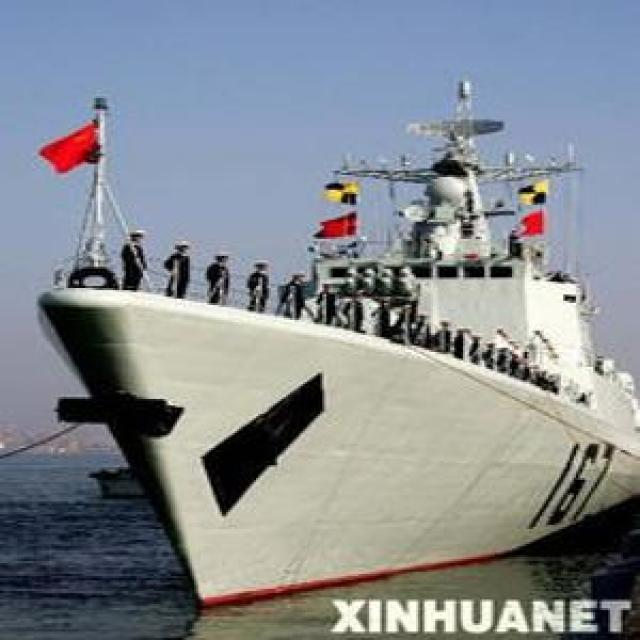navalvessels: (38, 68, 640, 591)
